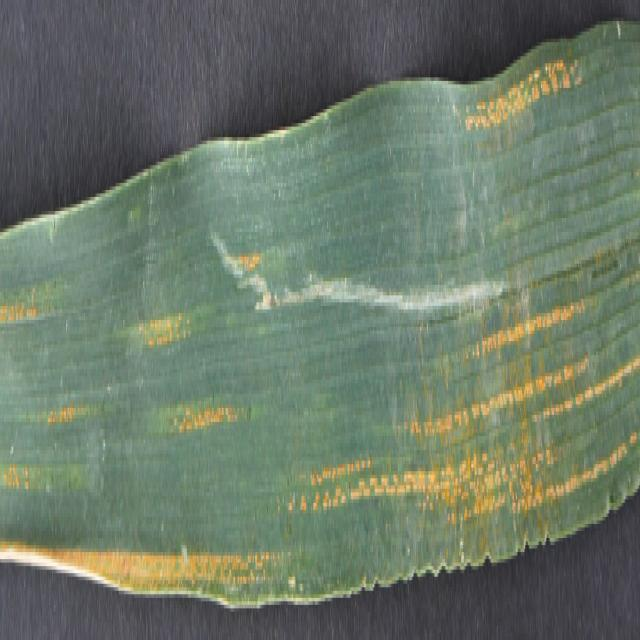leaf rust: (302, 267, 638, 549), (0, 271, 284, 598), (445, 49, 590, 158)
